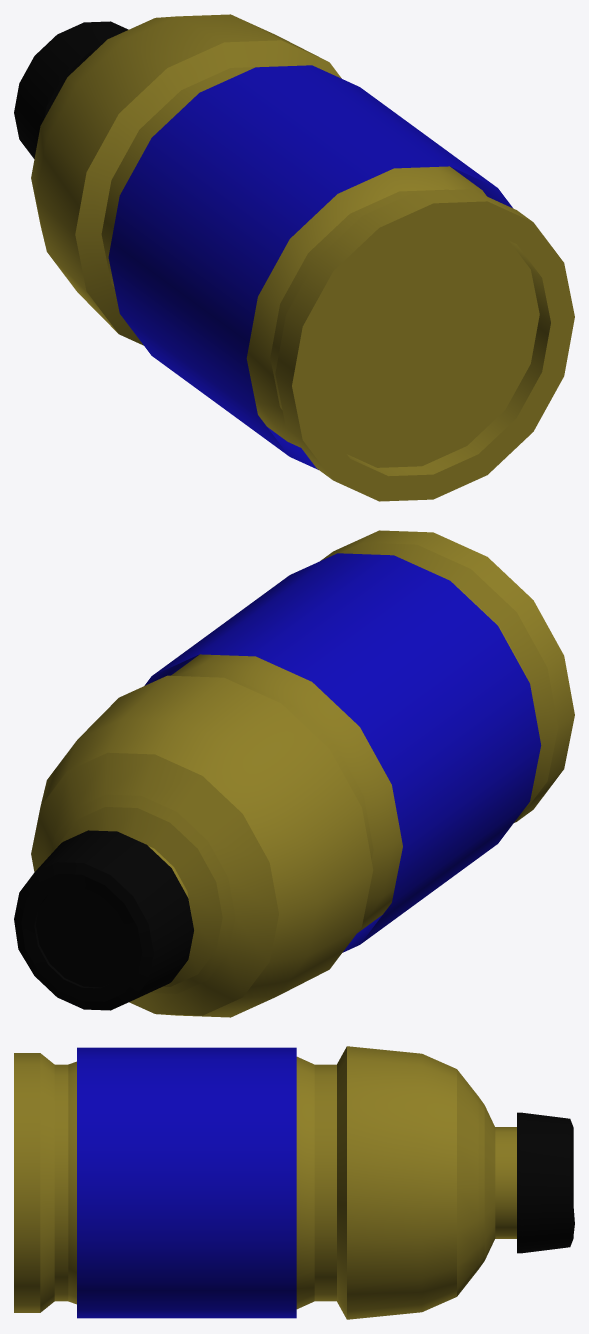
The model's file is Juice.fbx.
3 views of the same model, one above another, from view 1: azimuth 30°, elevation 25°; view 2: azimuth 150°, elevation 25°; view 3: azimuth 270°, elevation 25° (orthographic). The views are drawn at different scales.
Visible parts, largest first — view 1: Cylinder001, Object001, Object002; view 2: Cylinder001, Object001, Object002; view 3: Cylinder001, Object001, Object002.
Part boxes in pixels (box(x1,y1,x2,y2)): Cylinder001: box(31, 14, 574, 501); Object001: box(108, 65, 512, 469); Object002: box(14, 21, 128, 158); Cylinder001: box(31, 530, 574, 1017); Object001: box(144, 553, 541, 952); Object002: box(14, 830, 193, 1010); Cylinder001: box(14, 1046, 516, 1319); Object001: box(77, 1047, 296, 1318); Object002: box(517, 1112, 574, 1253).
Bounding box in the file's own units: 0.4482 × 0.4482 × 0.9181.
